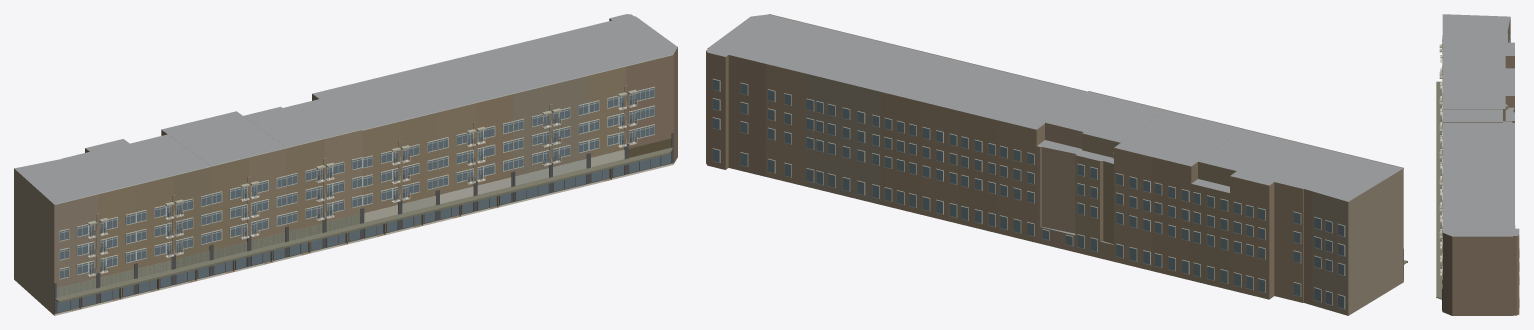
Rendered from chunk-face-evertsen-59-89.glb.
The picture shows the model from 3 angles, left to right: view 1: azimuth 30°, elevation 25°; view 2: azimuth 150°, elevation 25°; view 3: azimuth 270°, elevation 25°; orthographic projection. The views are drawn at different scales.
Visible parts, largest first — view 1: face-evertsen-59-89; view 2: face-evertsen-59-89; view 3: face-evertsen-59-89.
Part boxes in pixels (x1,y1,x2,y2): face-evertsen-59-89: (14, 14, 677, 315); face-evertsen-59-89: (706, 14, 1407, 315); face-evertsen-59-89: (1436, 14, 1519, 315).
Bounding box in the file's own units: 100 × 16.95 × 15.88.
